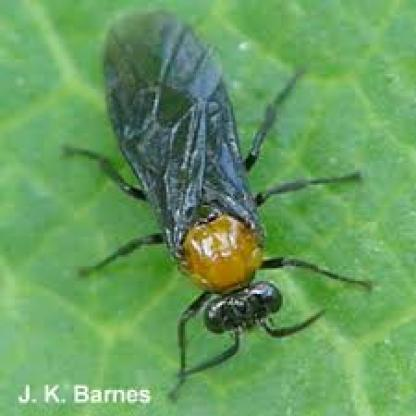sawfly: (53, 7, 386, 387)
